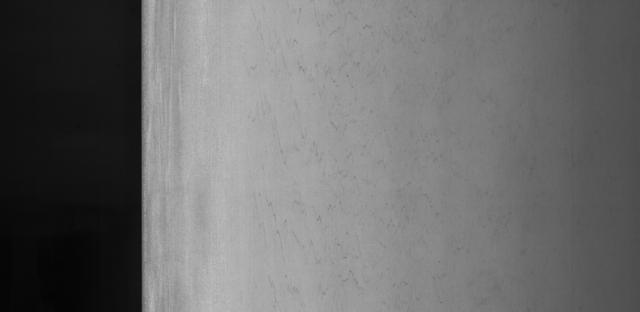silk_spot: (246, 35, 401, 295)
